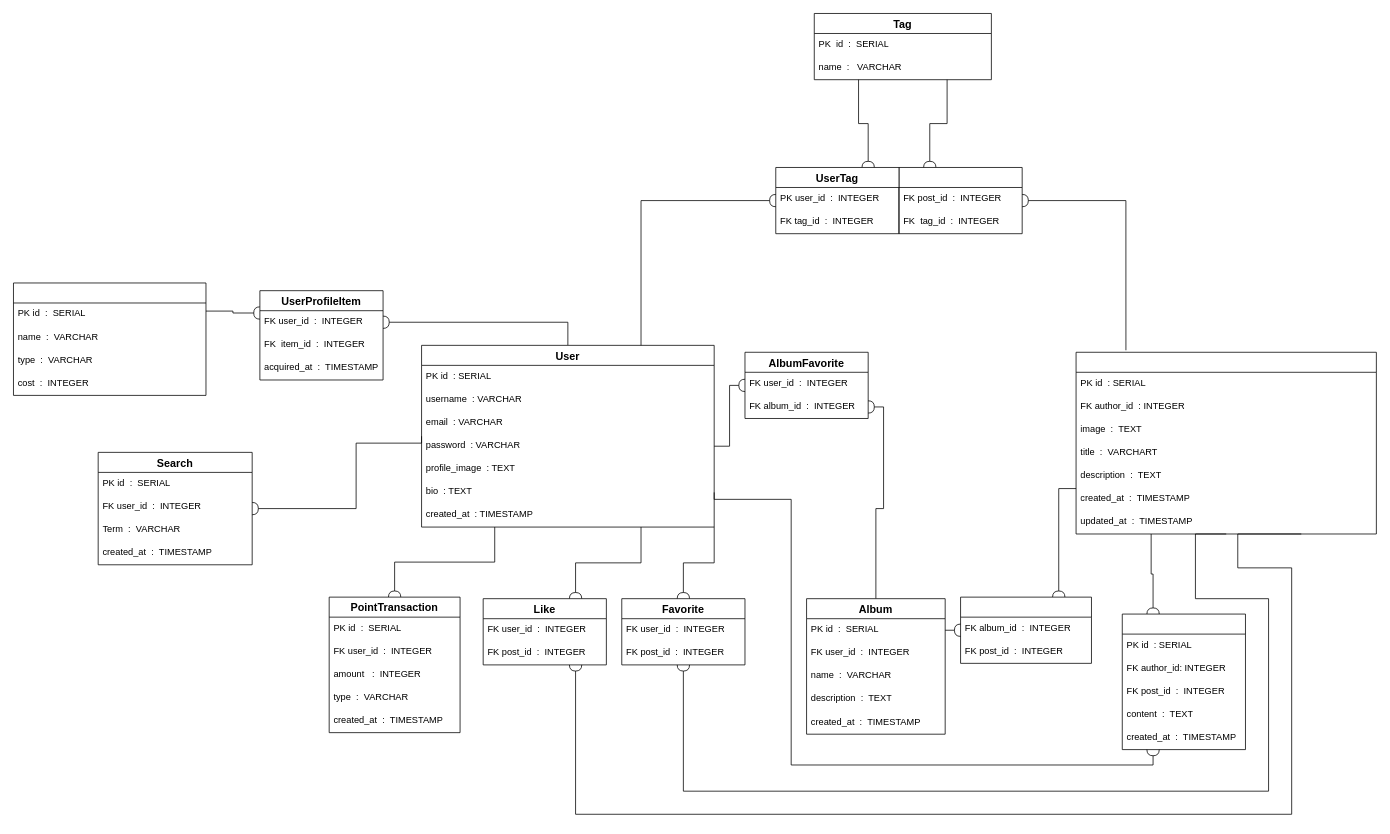
Image size: 1390x834. Some labels were removed from this diagram. The shapes that lost their labels are listed below. From the top down, each one's box as (x1, y1, x2, y2) in pixels, then its label:
(898, 167, 1022, 234): PostTag
(13, 282, 206, 395): ProfileItem
(1075, 352, 1376, 534): Post
(960, 596, 1091, 663): AlbumPost
(1122, 613, 1245, 750): Comment
